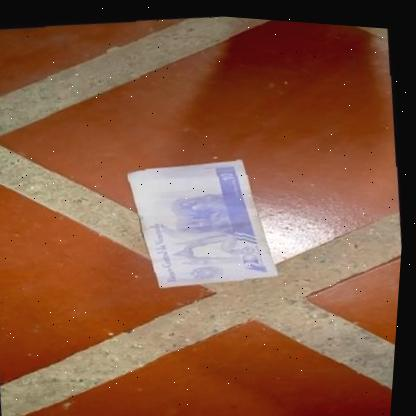ten-back-vef: (120, 143, 289, 295)
